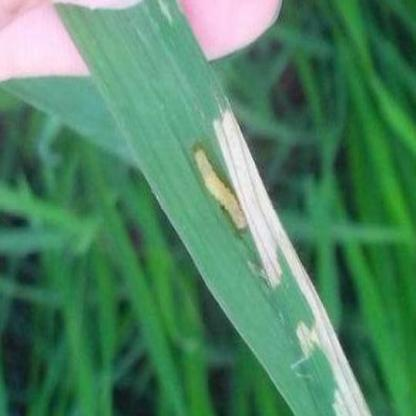leaf-folder: (182, 125, 272, 251)
